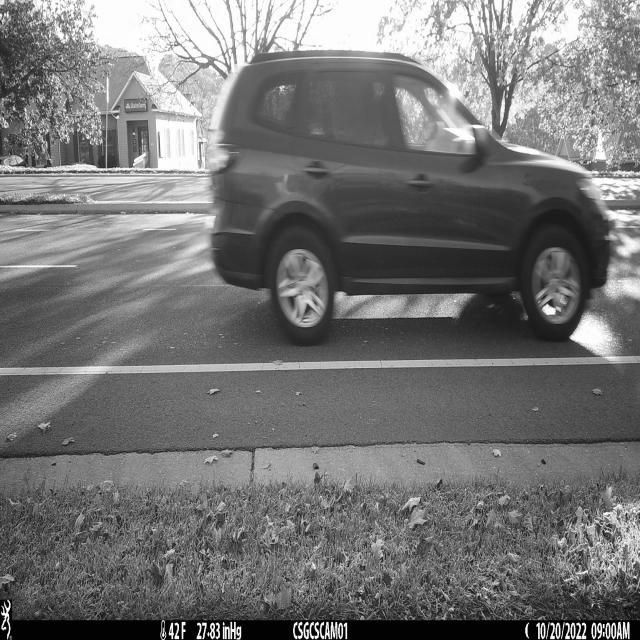SUV: (208, 50, 612, 347)
